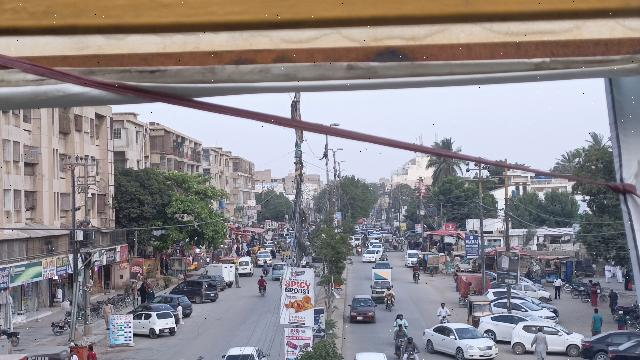Bike: (382, 295, 396, 311), (395, 339, 408, 356), (258, 285, 268, 298), (438, 314, 450, 324), (404, 351, 417, 360)
Car: (421, 322, 500, 360), (509, 318, 582, 355), (476, 311, 541, 342), (169, 279, 220, 305), (133, 311, 178, 340), (349, 294, 377, 324), (220, 345, 271, 360)
Person: (529, 325, 553, 360), (586, 305, 604, 335), (99, 300, 115, 332), (549, 275, 563, 299), (436, 302, 451, 318), (404, 335, 419, 351), (392, 324, 409, 338), (395, 314, 409, 327), (257, 275, 269, 287), (383, 285, 395, 297)
Rickshaw: (464, 294, 494, 326)
Truck: (369, 267, 394, 304), (205, 263, 236, 283)
